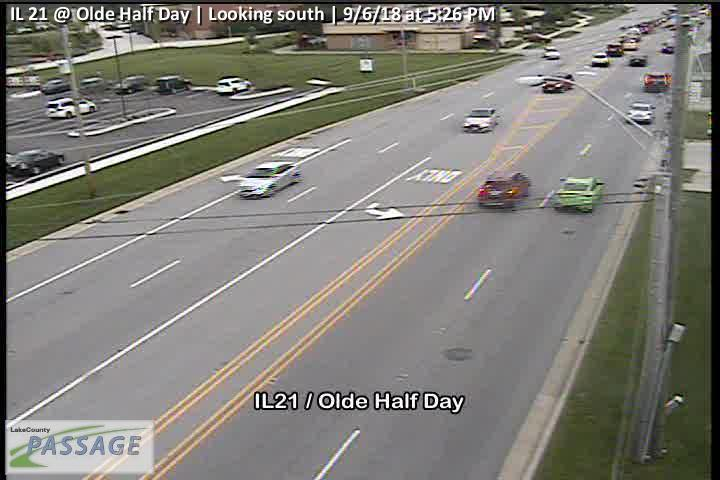SUV: (476, 170, 532, 208), (45, 97, 98, 118), (152, 75, 193, 94), (542, 72, 575, 93), (215, 76, 252, 94), (114, 74, 146, 94), (643, 71, 669, 92), (591, 52, 610, 67), (544, 46, 561, 59)
Sedan: (238, 160, 301, 199), (550, 176, 605, 214), (7, 148, 65, 176), (462, 106, 501, 133), (625, 103, 657, 124), (630, 52, 648, 66)
